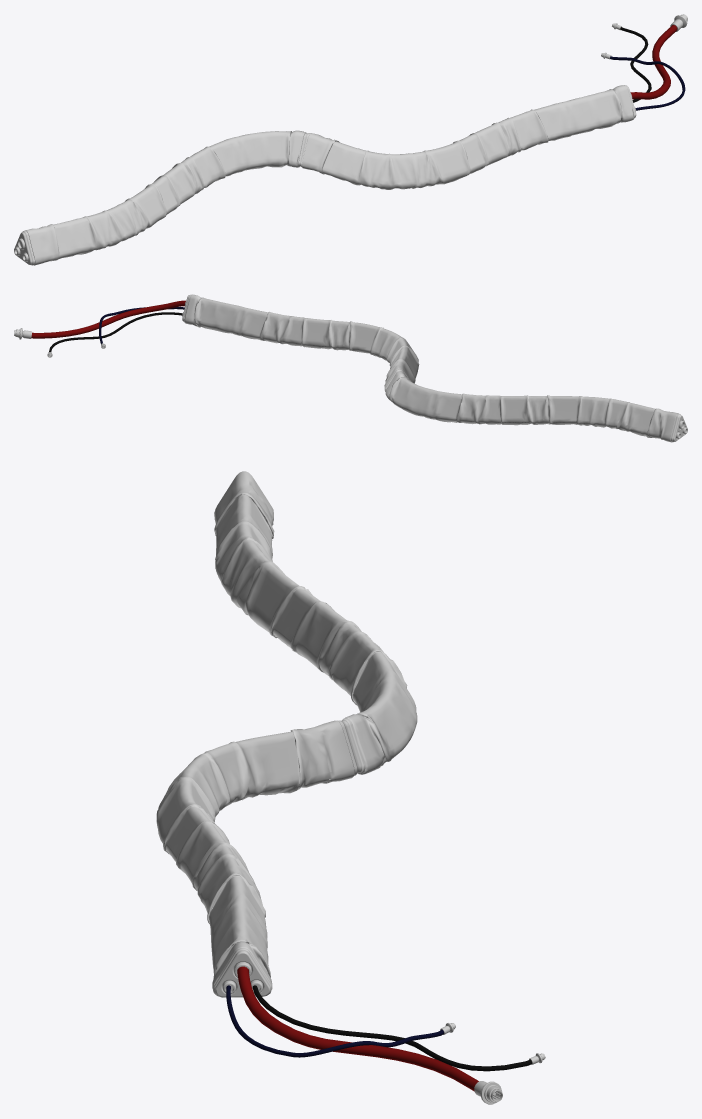
The model's file is SM_Wire01_LineStyle01.FBX.
3 views of the same model, one above another, from view 1: azimuth 30°, elevation 25°; view 2: azimuth 150°, elevation 25°; view 3: azimuth 270°, elevation 25° (orthographic). The views are drawn at different scales.
Parts seen in each view (by area): view 1: SM_Wire01_LineStyle01; view 2: SM_Wire01_LineStyle01; view 3: SM_Wire01_LineStyle01.
Part boxes in pixels (bbox=[...]): SM_Wire01_LineStyle01: bbox=[14, 14, 687, 265]; SM_Wire01_LineStyle01: bbox=[14, 294, 687, 442]; SM_Wire01_LineStyle01: bbox=[156, 471, 545, 1104].
Size of the model in its own units: 444 by 123 by 20.22.
